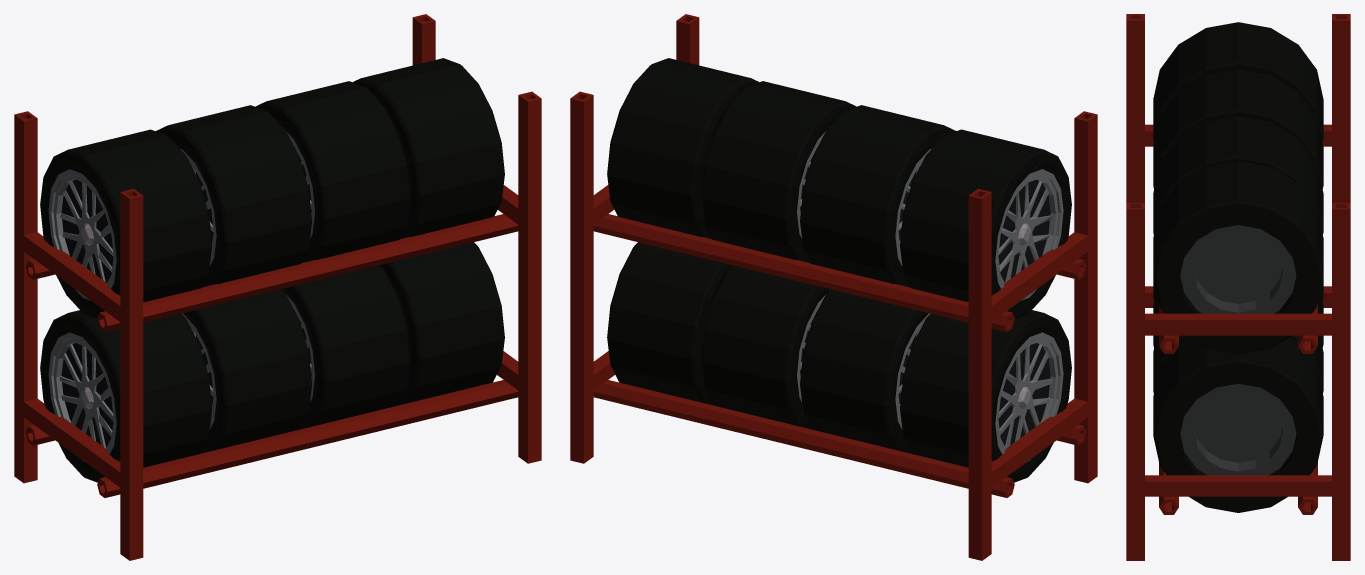
The model's file is ds_tyre_rack.glb.
3 views of the same model, side by side, from view 1: azimuth 30°, elevation 25°; view 2: azimuth 150°, elevation 25°; view 3: azimuth 270°, elevation 25° (orthographic). The views are drawn at different scales.
Visible parts, largest first — view 1: tire_rack; view 2: tire_rack; view 3: tire_rack.
Part boxes in pixels (left/top/right/bottom): tire_rack: left=14, top=14, right=541, bottom=560; tire_rack: left=570, top=14, right=1097, bottom=560; tire_rack: left=1126, top=14, right=1350, bottom=560.
Size of the model in its own units: 2.04 by 1.66 by 0.9628.
Materials: 1 (1 with a texture image).
